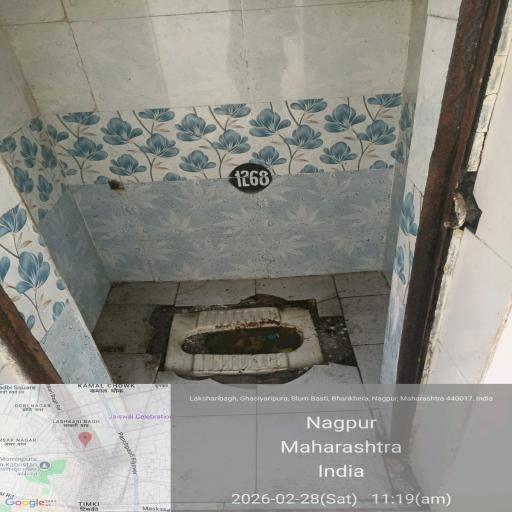dirty_floor: (56, 266, 484, 512)
dirty_indian: (126, 308, 372, 380)
partial_dirty_floor: (76, 34, 512, 266)
